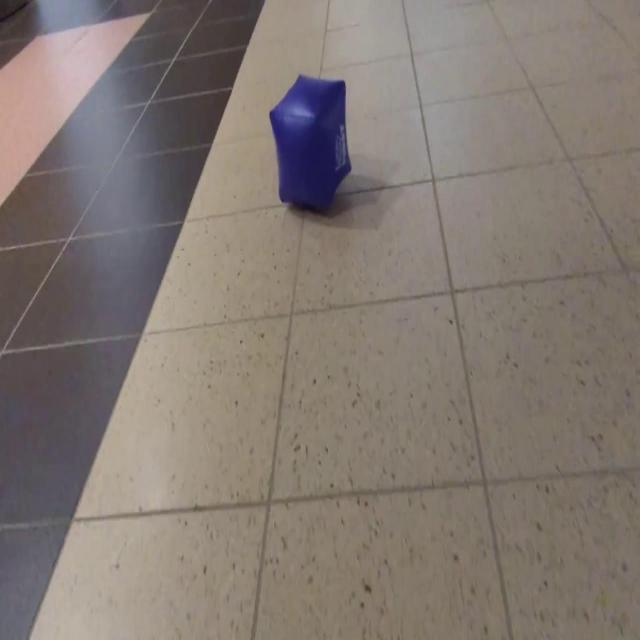frc_cube: (267, 74, 353, 213)
